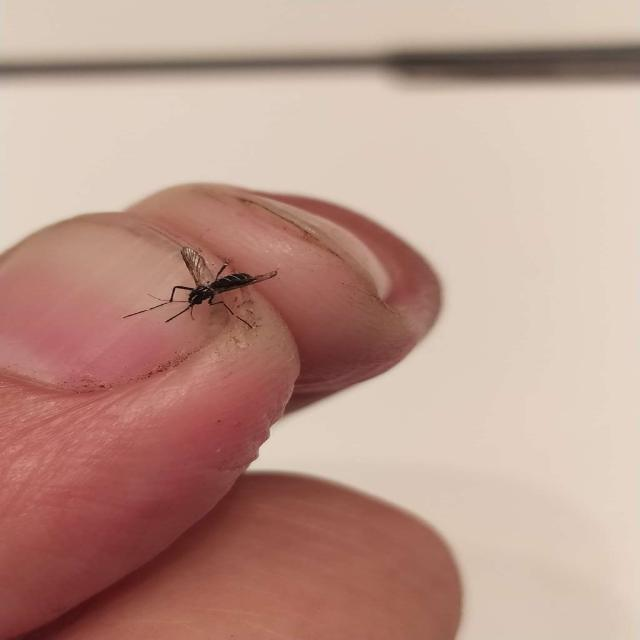albopictus: (122, 243, 280, 329)
